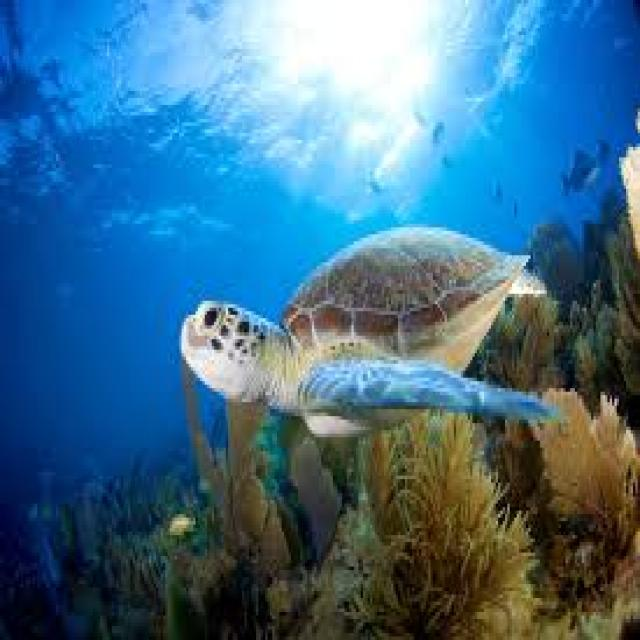Sea turtle: (150, 232, 590, 452)
